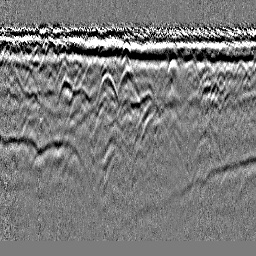cavity: (117, 65, 139, 98)
